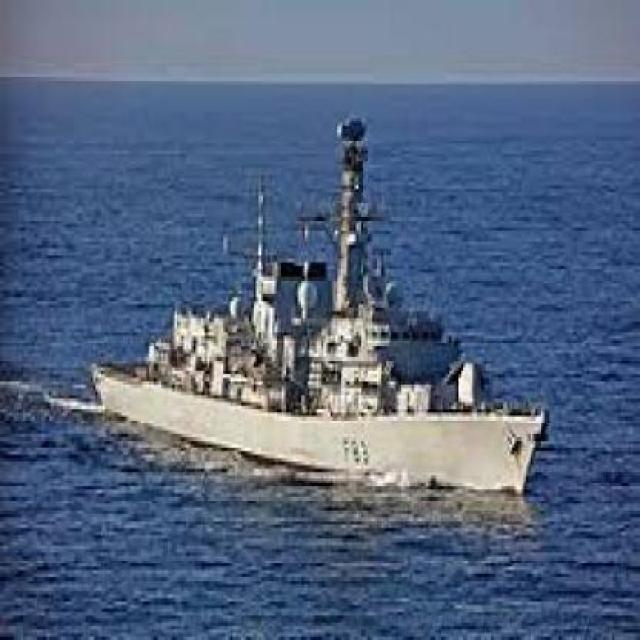warship2: (74, 99, 571, 494)
